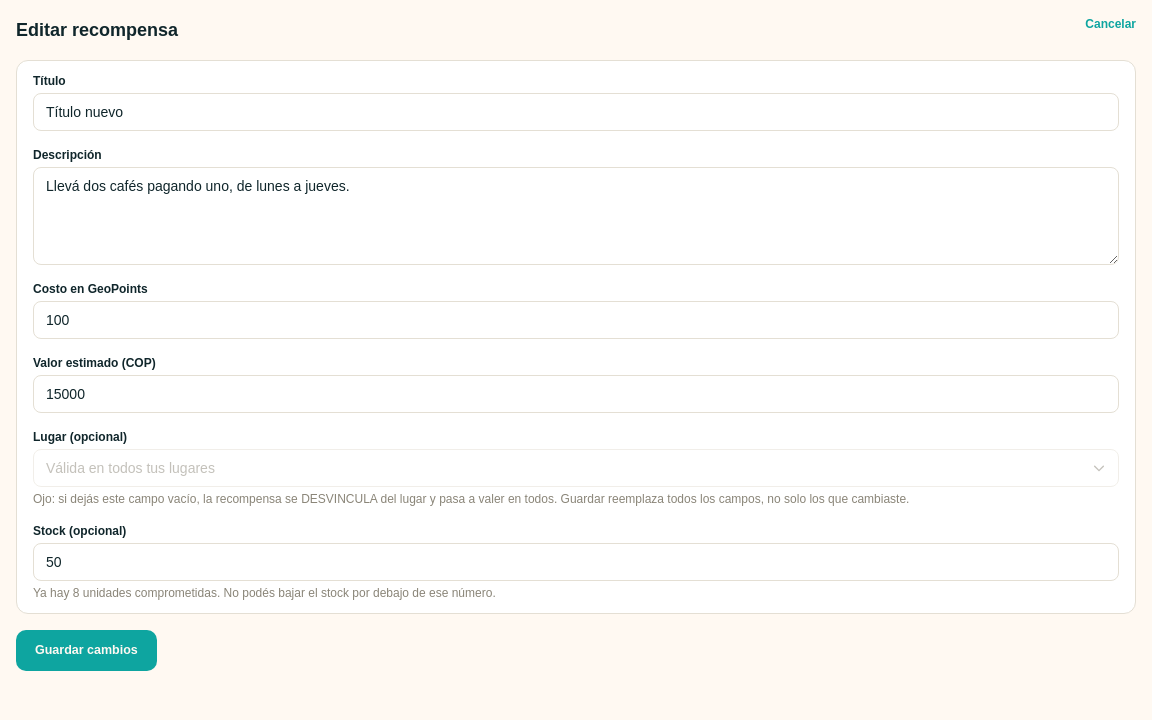
Test: RewardEditPage › valida los numéricos con las mismas reglas que el alta
Check: the field labelled "Título" is shown, box 33,93 -> 1119,131
Replace the text in the number field labelled "Costo en GeoPoints" with "0" at (576, 320), box 33,301 -> 1119,339
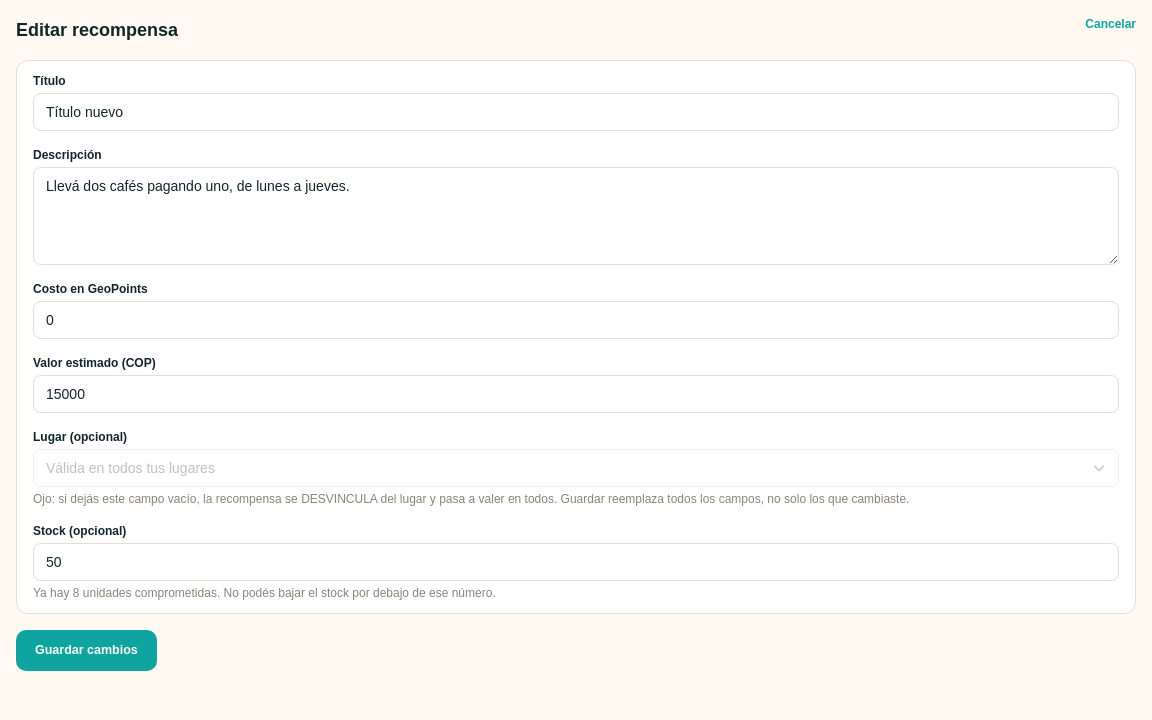
Click the button "Guardar cambios" at (86, 650), box 16,630 -> 157,671
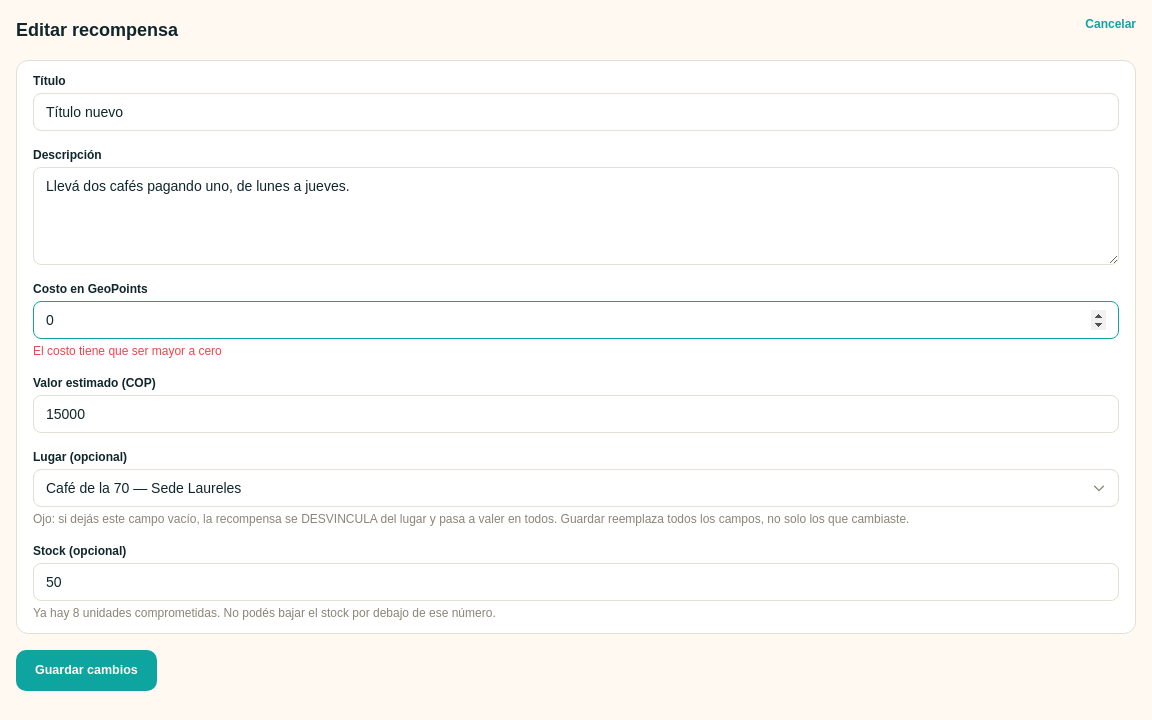
Check: the text "El costo tiene que ser mayor a cero" is shown, box 33,344 -> 222,358
